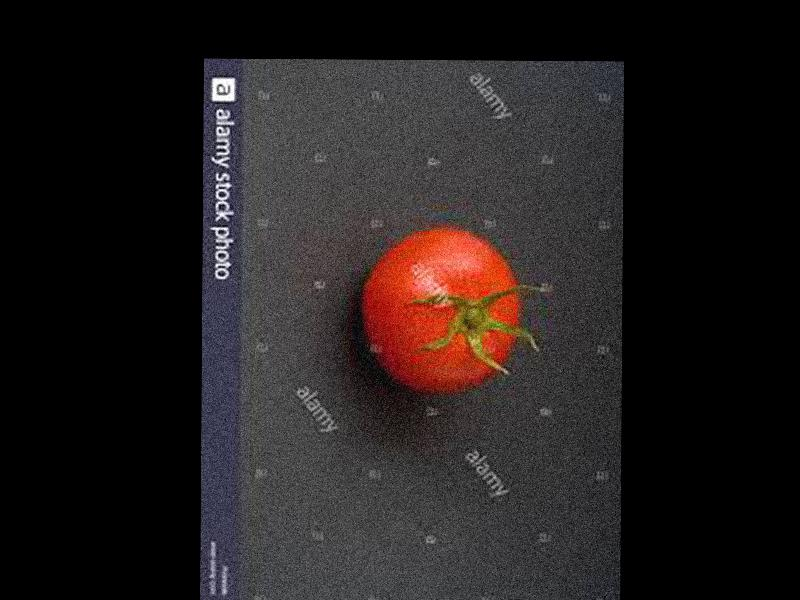Tomato: (367, 226, 521, 394)
